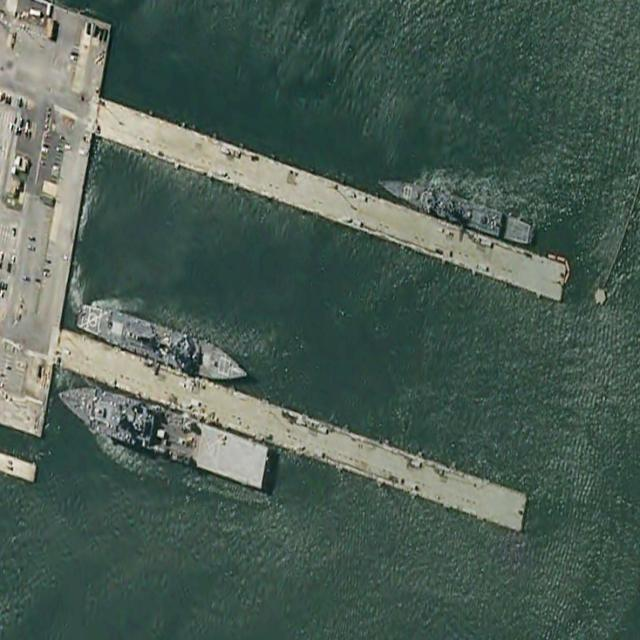Destroyer: (73, 294, 251, 394)
Frigate: (374, 167, 533, 248)
Landing: (52, 375, 269, 488)
